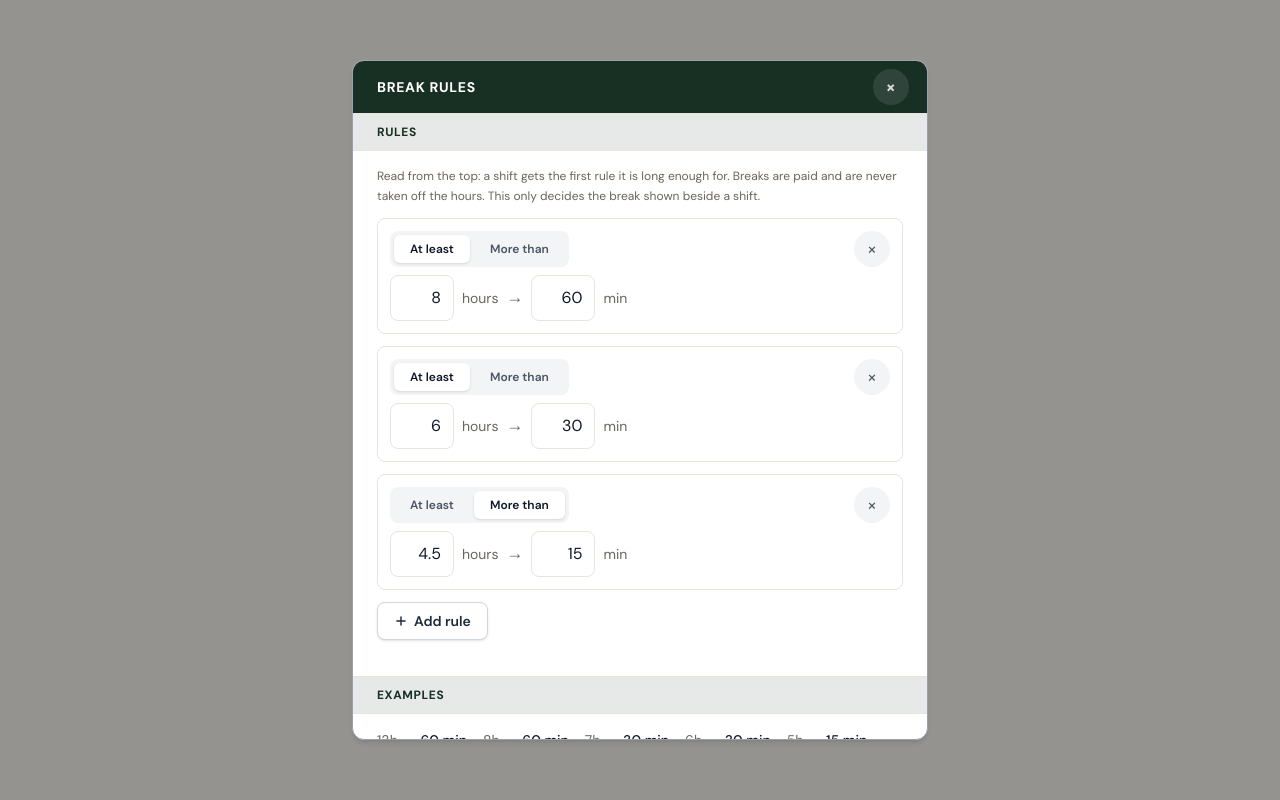
Test: BreakRulesModal › will not save a ladder with no rungs
Clear the 1st field named "Hours": {"x": 422, "y": 298} top-left (390, 275), bottom-right (454, 321)
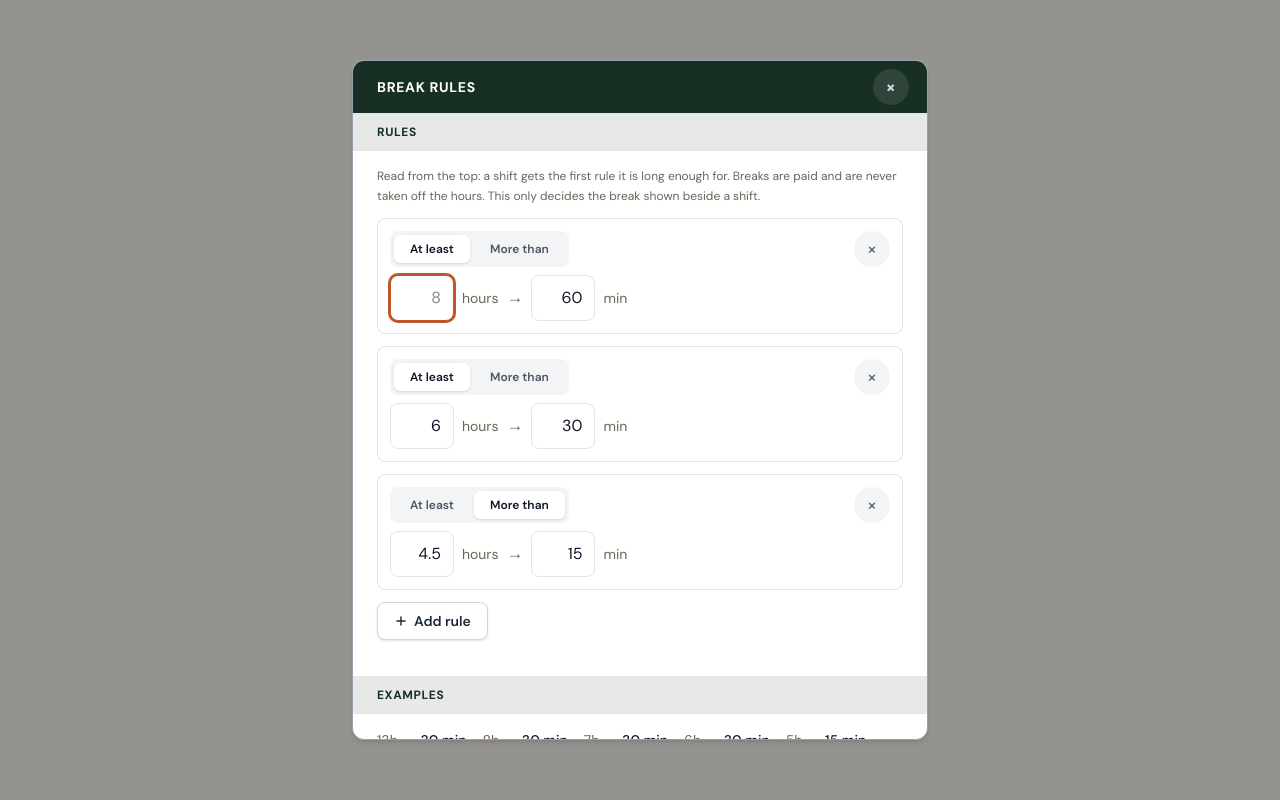
Clear the 1st field named "Hours": {"x": 422, "y": 426} top-left (390, 403), bottom-right (454, 449)
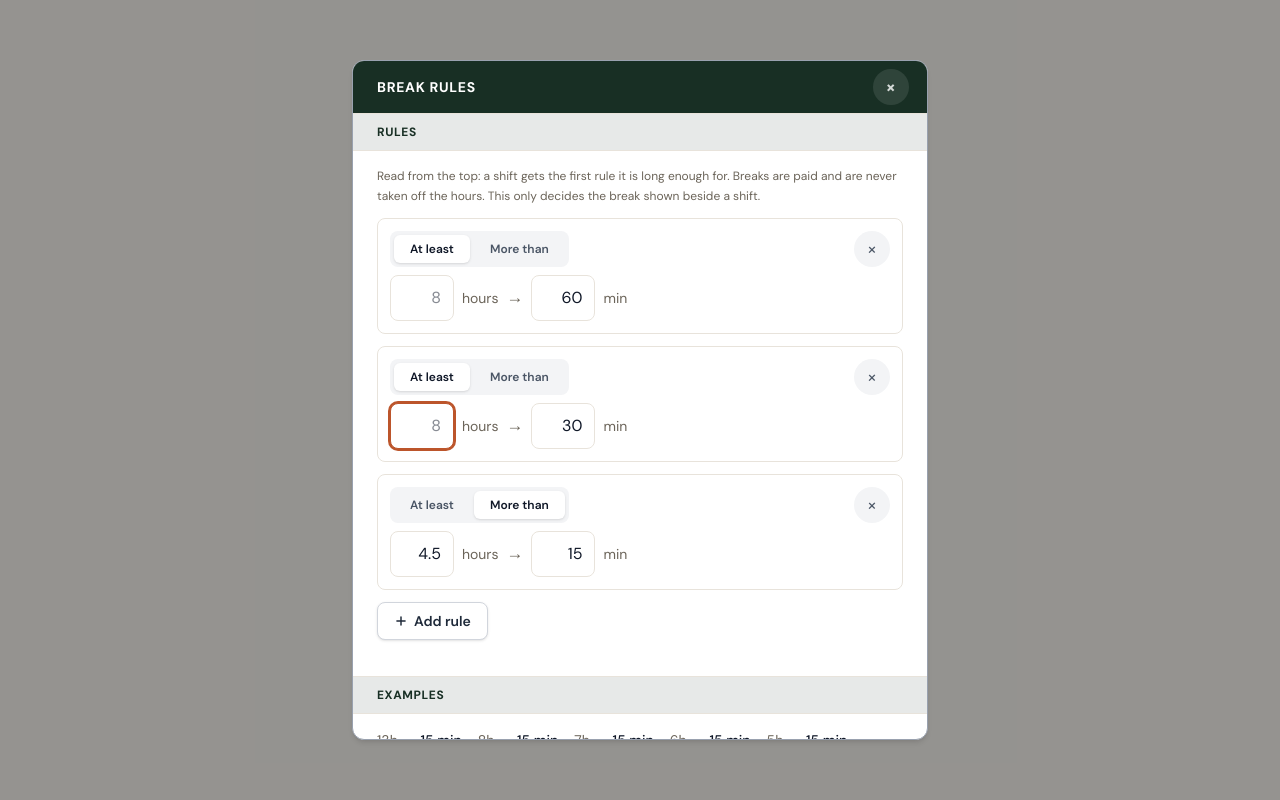
Clear the field named "Hours": {"x": 422, "y": 554} top-left (390, 531), bottom-right (454, 577)
(page scrolled)
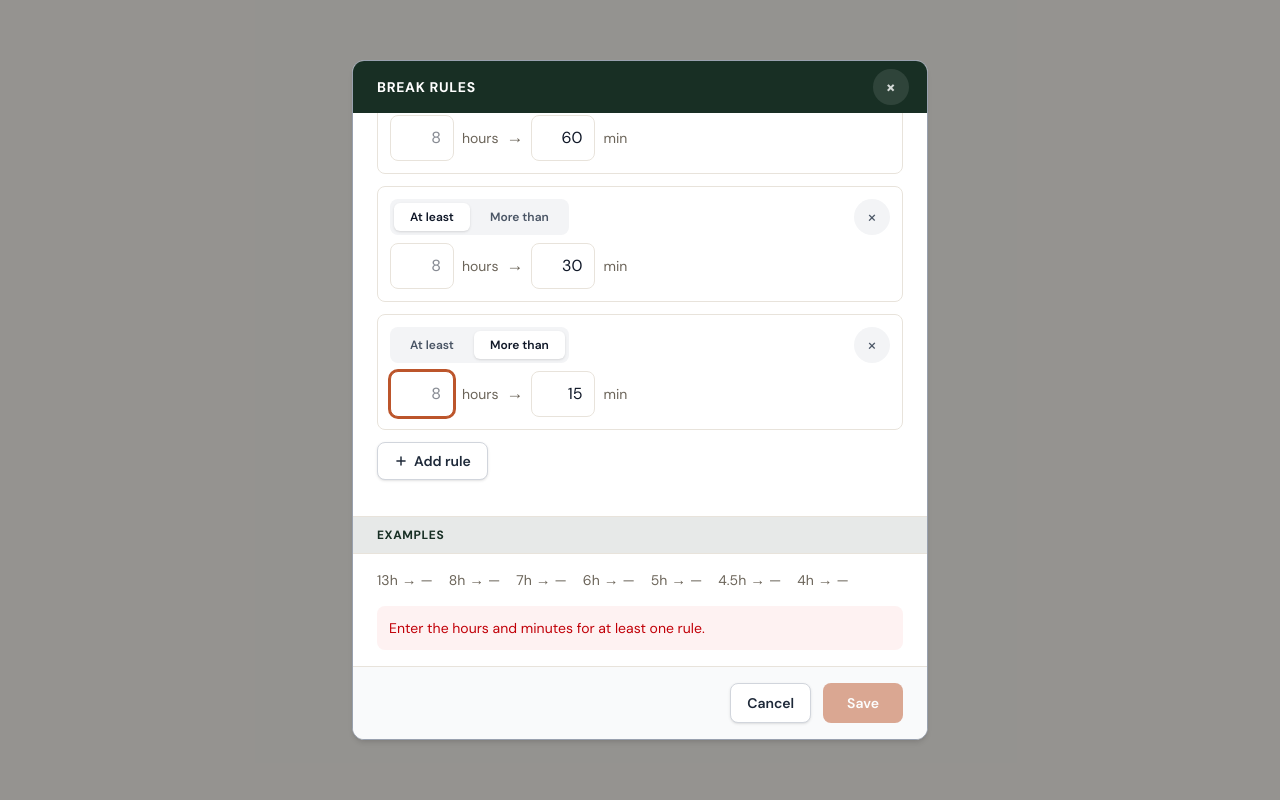
Now the button "Save" is disabled, box top-left (823, 683), bottom-right (903, 723)
Now the text "Enter the hours and minutes for at least one rule." is shown, box top-left (377, 606), bottom-right (903, 650)
